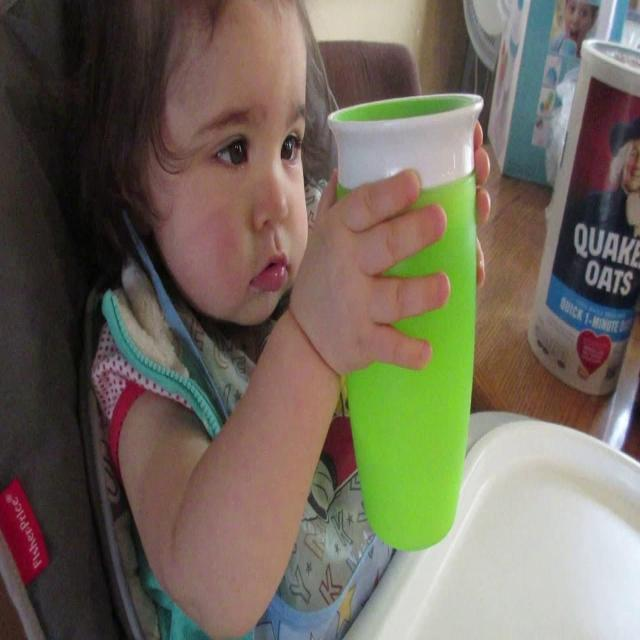child: (86, 7, 488, 637)
